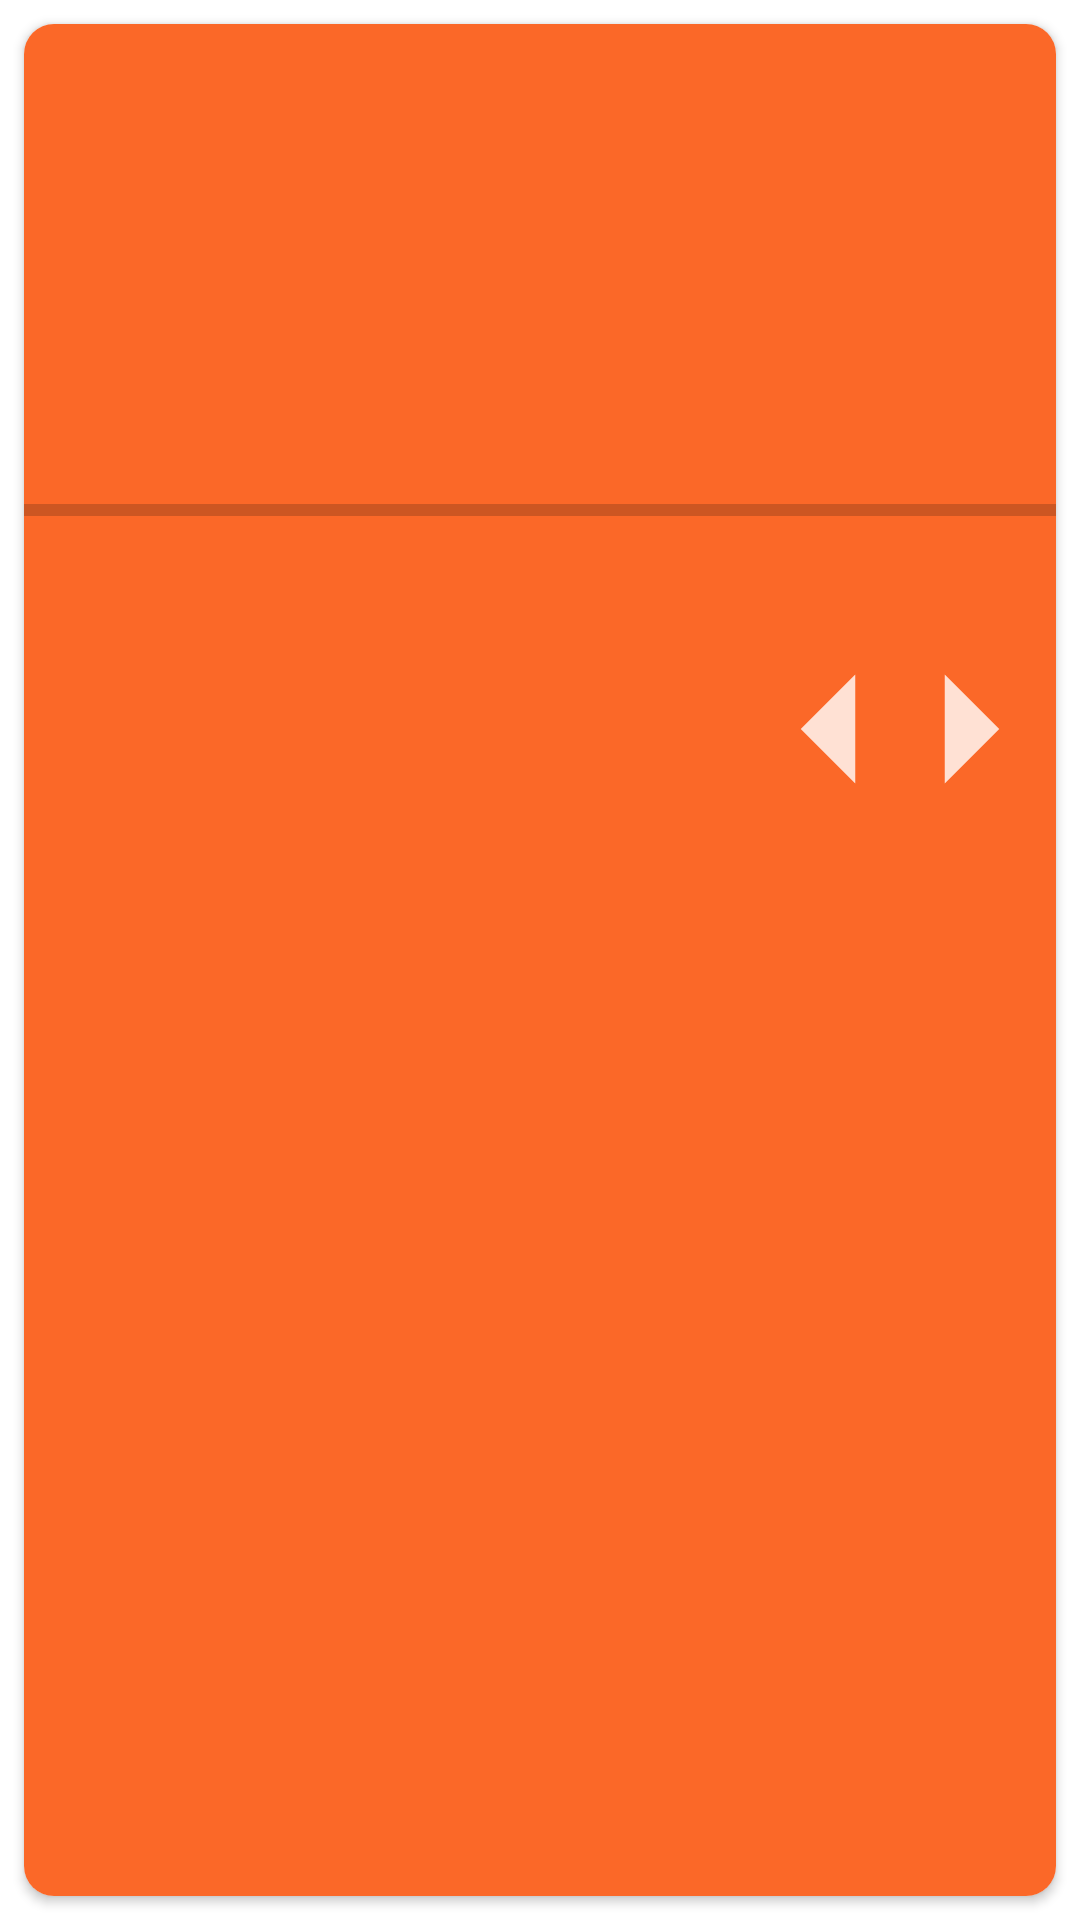

Where icons sit on this 1080×1920 app screen, as BBox(x1, y1, x2, y2):
arrow add: BBox(944, 675, 999, 783)
arrow reduce: BBox(801, 675, 856, 783)
